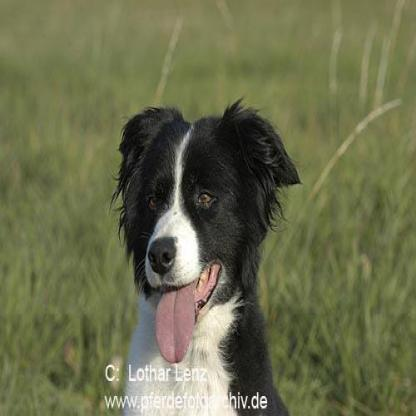Border_collie: (108, 90, 301, 412)
